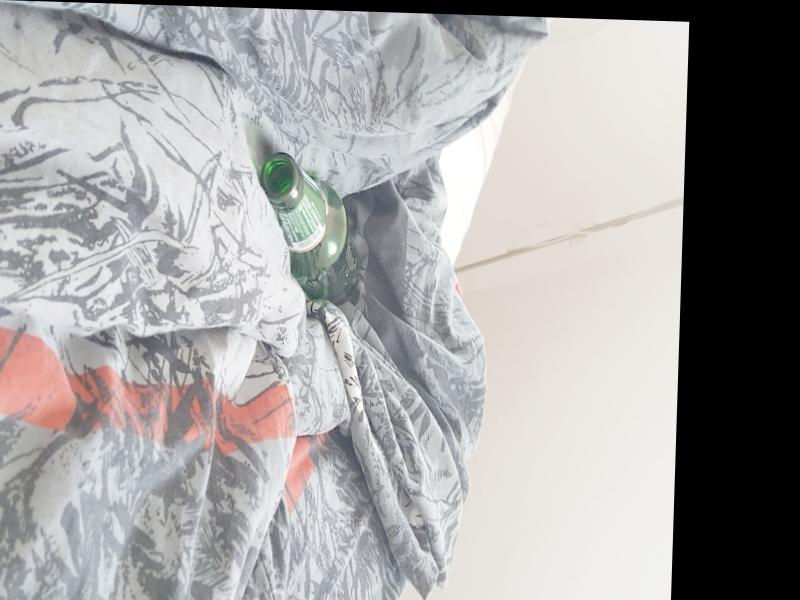Beer: (255, 150, 362, 308)
